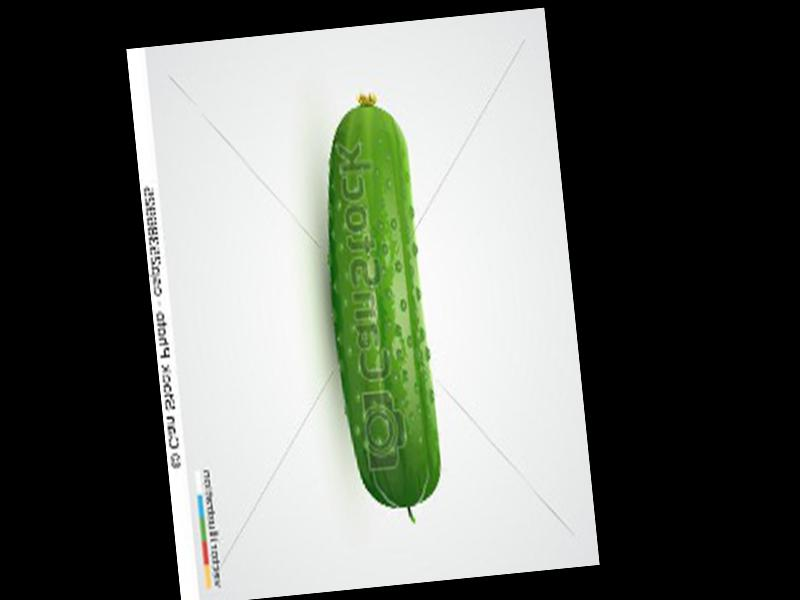Cucumber: (312, 88, 447, 529)
